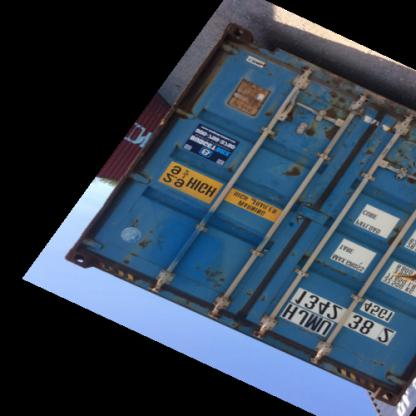Damage: (178, 47, 234, 119), (302, 86, 356, 146), (119, 221, 158, 274), (386, 119, 416, 184), (190, 258, 228, 302), (272, 165, 312, 189), (356, 356, 398, 375), (256, 102, 278, 130), (388, 268, 416, 288), (242, 289, 274, 304)
